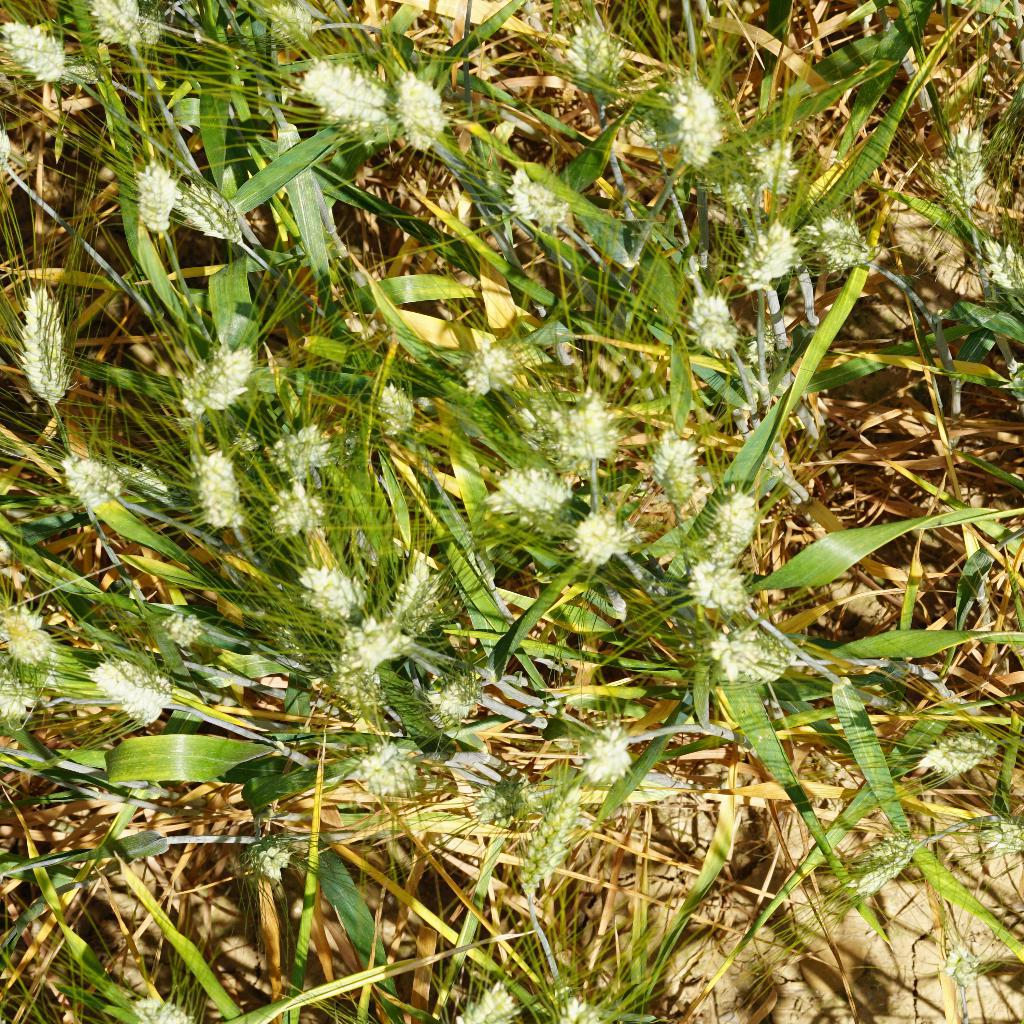0-0: (509, 770, 600, 898), (288, 53, 394, 136), (13, 282, 77, 416), (177, 337, 258, 427), (689, 485, 769, 572), (376, 64, 452, 155), (83, 654, 179, 726), (157, 172, 246, 249), (841, 829, 923, 909), (664, 69, 728, 169), (547, 393, 626, 474), (382, 556, 452, 644), (561, 12, 621, 113), (486, 461, 574, 527), (182, 447, 247, 536), (938, 114, 990, 221), (909, 726, 1009, 780), (706, 623, 802, 679), (798, 209, 877, 276), (328, 616, 425, 670), (498, 166, 576, 233), (734, 218, 800, 297), (50, 451, 128, 514), (286, 569, 364, 629), (563, 505, 641, 565), (455, 333, 525, 399), (651, 426, 704, 513), (0, 17, 73, 80), (467, 773, 547, 829), (264, 420, 342, 477), (575, 720, 639, 788), (688, 557, 755, 621), (684, 289, 744, 360), (354, 741, 431, 796), (431, 979, 524, 1024), (423, 663, 487, 728), (971, 229, 1024, 305), (0, 600, 54, 672), (257, 477, 312, 546), (134, 155, 179, 239), (74, 0, 146, 51), (754, 133, 802, 207), (329, 663, 398, 714), (252, 0, 322, 48), (237, 824, 295, 881), (372, 379, 420, 444), (534, 986, 609, 1024), (120, 990, 199, 1024), (122, 6, 179, 50), (940, 939, 983, 996), (0, 675, 48, 725), (974, 815, 1024, 863), (44, 54, 109, 90), (155, 609, 208, 647), (209, 420, 267, 453), (296, 495, 336, 532)
